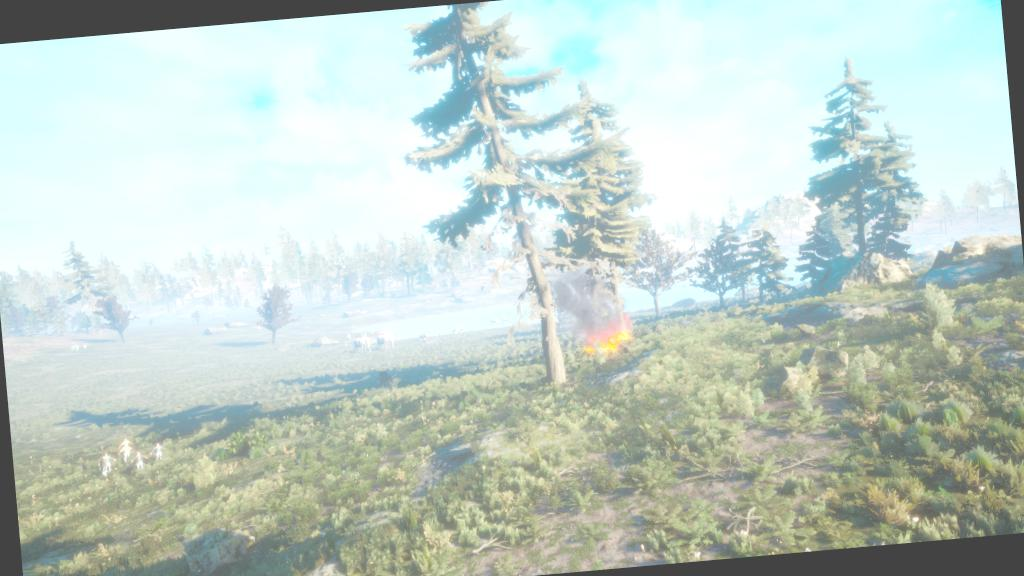Fire: (585, 314, 636, 360)
elephant: (346, 331, 376, 356), (372, 330, 396, 348)
human: (96, 448, 116, 476), (116, 438, 136, 464), (132, 448, 148, 478), (152, 442, 166, 463)
smoke: (551, 268, 625, 320)
